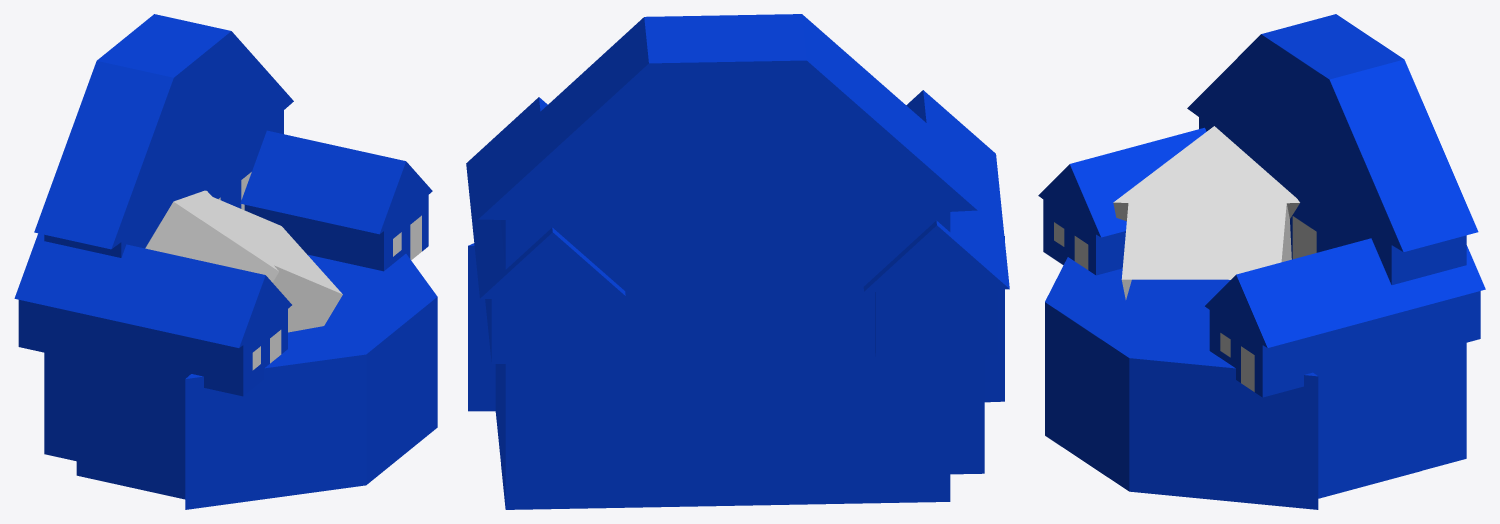
File: ArmChair.fbx
The picture shows the model from 3 angles, left to right: view 1: azimuth 30°, elevation 25°; view 2: azimuth 150°, elevation 25°; view 3: azimuth 270°, elevation 25°; orthographic projection. The views are drawn at different scales.
Parts seen in each view (by area): view 1: Cube.236, Cube.242; view 2: Cube.236; view 3: Cube.236, Cube.242.
Part boxes in pixels (<box>): Cube.236: <box>14,14,437,509</box>; Cube.242: <box>145,190,342,332</box>; Cube.236: <box>466,14,1009,509</box>; Cube.236: <box>1038,14,1485,509</box>; Cube.242: <box>1113,126,1299,299</box>.
Bounding box in the file's own units: 449 × 356 × 403.
